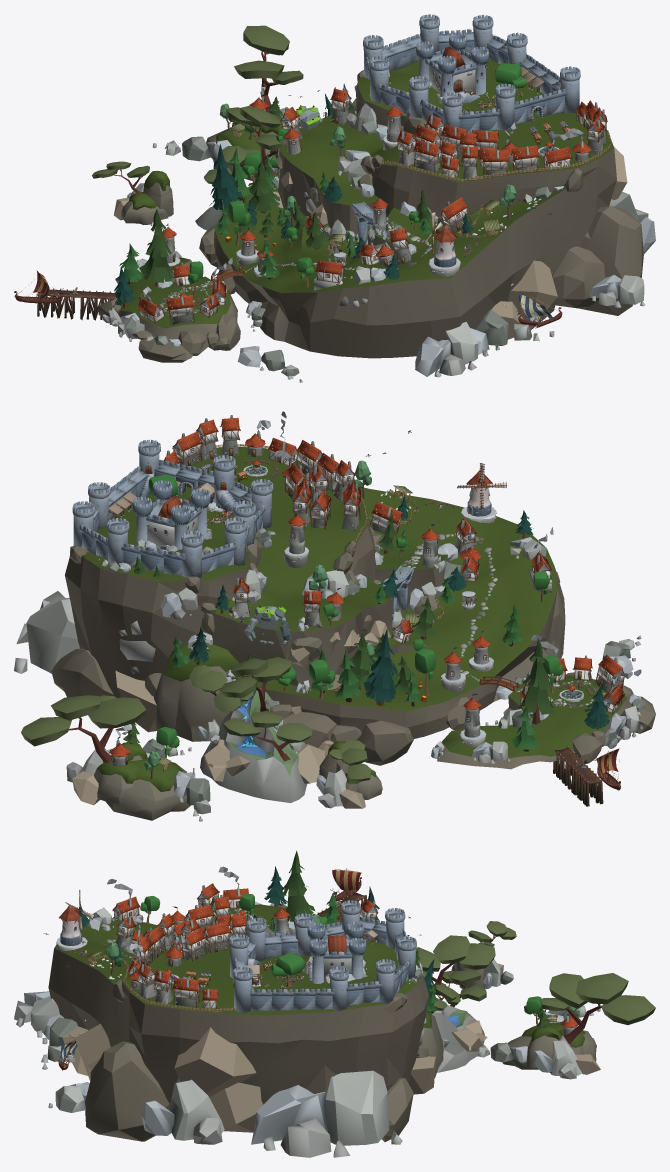
File: issum_island_clean.glb
The picture shows the model from 3 angles, top to bottom: view 1: azimuth 30°, elevation 25°; view 2: azimuth 150°, elevation 25°; view 3: azimuth 270°, elevation 25°; orthographic projection. The views are drawn at different scales.
Visible parts, largest first — view 1: issum_island_clean; view 2: issum_island_clean; view 3: issum_island_clean.
Boxes of the visible parts, left/top/right/bottom form: issum_island_clean: left=14, top=14, right=655, bottom=382; issum_island_clean: left=14, top=411, right=655, bottom=821; issum_island_clean: left=14, top=850, right=655, bottom=1157.
Bounding box in the file's own units: 35.41 × 11.72 × 36.
44 materials, 44 textured.
